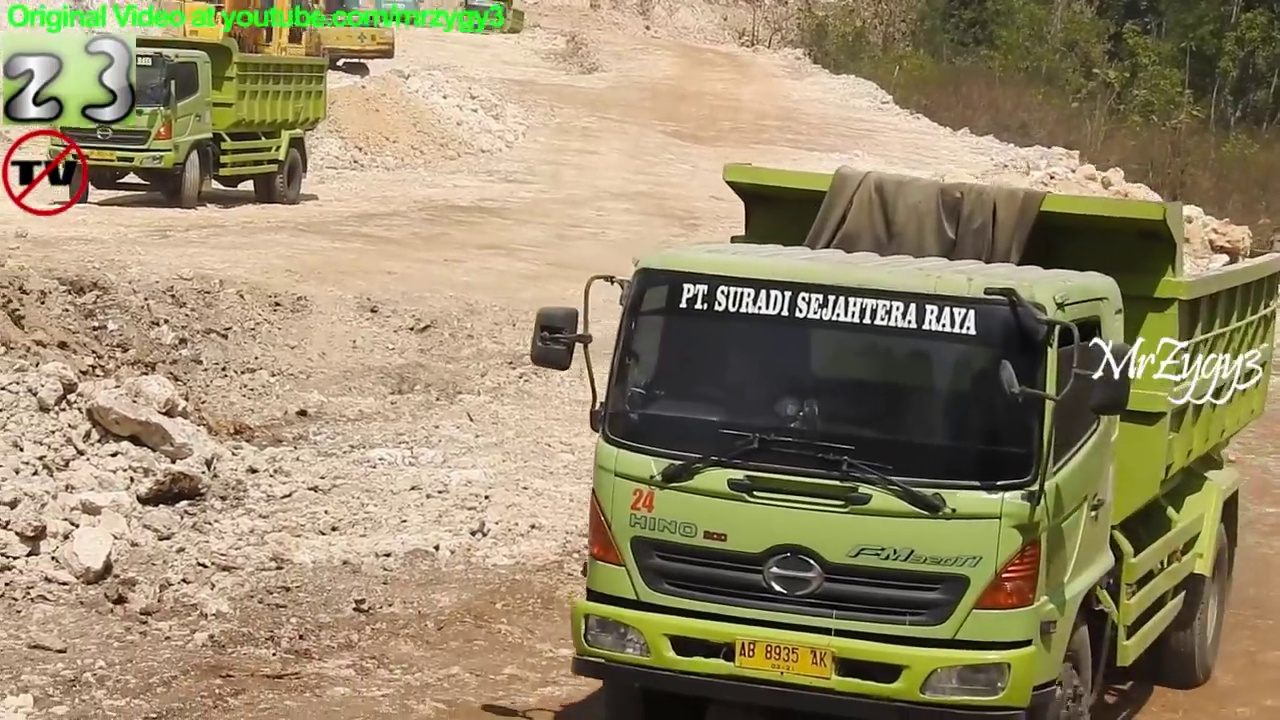excavator: (141, 1, 325, 95), (227, 1, 397, 82), (371, 1, 428, 35)
truck: (526, 157, 1279, 720), (37, 33, 330, 212), (458, 1, 528, 39)
